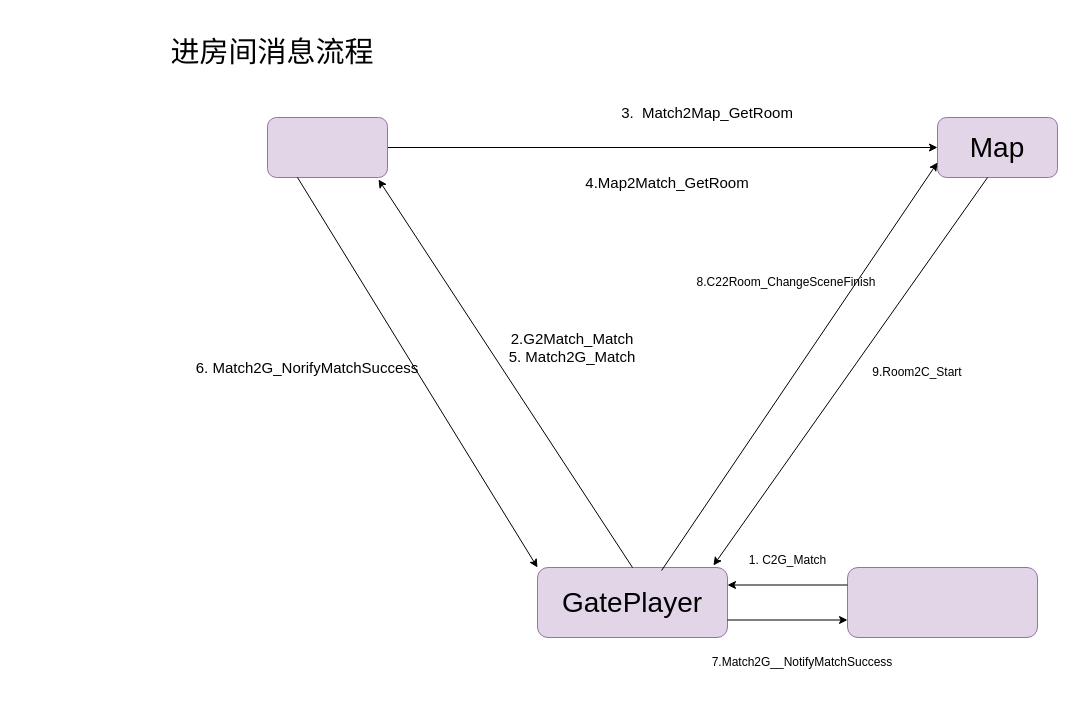
Some shapes in this 1075 by 704 pixel diagram are drawn without their labels. Each missing label, with the centre of its shape:
"Client" belongs at (942,602).
"Match" belongs at (327,147).
